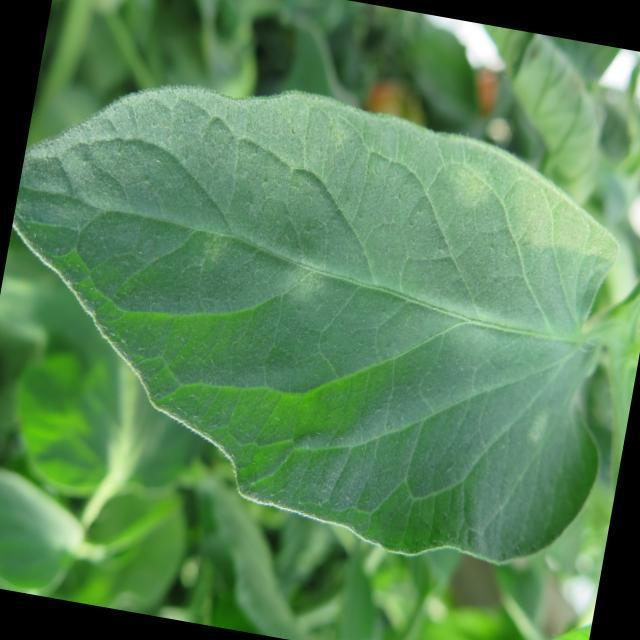Mosaic Virus: (164, 86, 627, 508)
